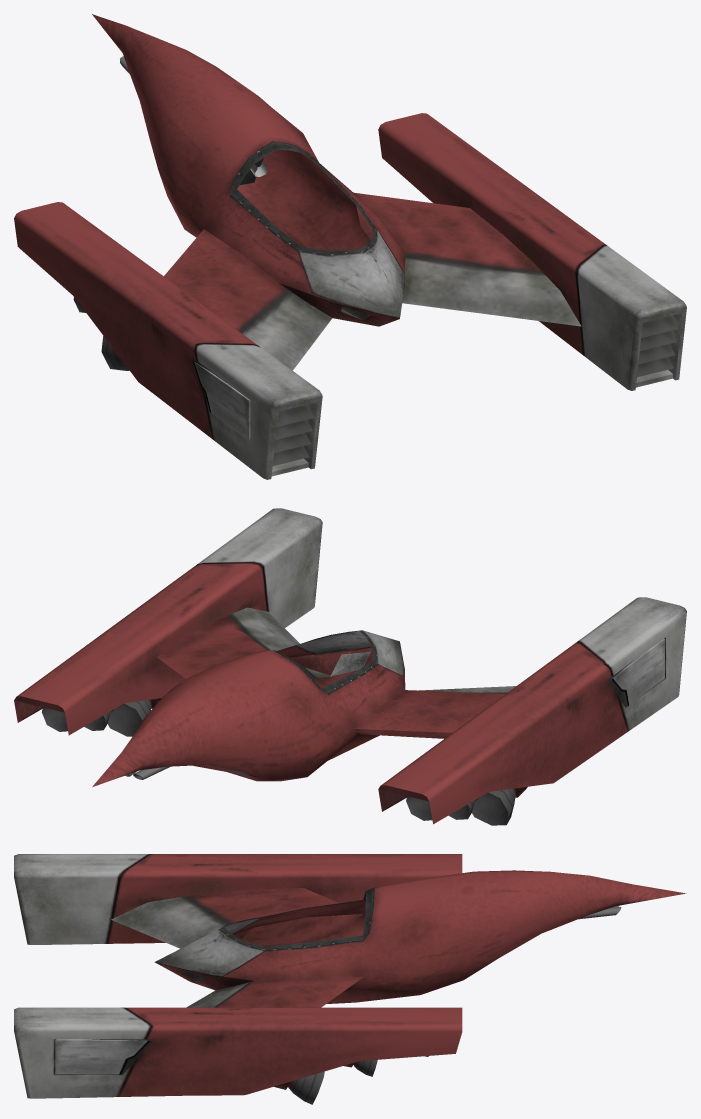
Rendered from ship 1.fbx.
The picture shows the model from 3 angles, top to bottom: view 1: azimuth 30°, elevation 25°; view 2: azimuth 150°, elevation 25°; view 3: azimuth 270°, elevation 25°; orthographic projection. The views are drawn at different scales.
Visible parts, largest first — view 1: mainCraft, leftEngine (×2), flap_L; view 2: leftEngine (×2), mainCraft, thruster_1 (×2), flap_L; view 3: leftEngine (×2), mainCraft, flap_L, thruster_1.
Part boxes in pixels (<box>): mainCraft: <box>92,14,581,370</box>; leftEngine (×2): <box>14,113,686,479</box>; flap_L: <box>192,361,250,439</box>; leftEngine (×2): <box>14,508,686,824</box>; mainCraft: <box>92,607,516,787</box>; thruster_1 (×2): <box>107,698,527,825</box>; flap_L: <box>612,639,664,705</box>; leftEngine (×2): <box>14,854,462,1098</box>; mainCraft: <box>111,870,686,1007</box>; flap_L: <box>55,1039,150,1074</box>; thruster_1: <box>274,1071,324,1104</box>.
Bounding box in the file's own units: 4.36 × 1.76 × 6.99.
